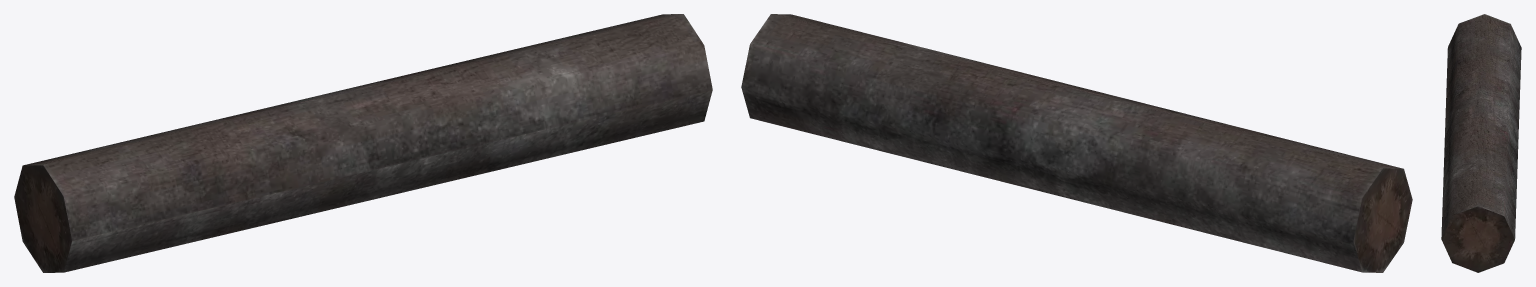
The picture shows the model from 3 angles, left to right: view 1: azimuth 30°, elevation 25°; view 2: azimuth 150°, elevation 25°; view 3: azimuth 270°, elevation 25°; orthographic projection. The views are drawn at different scales.
Visible parts, largest first — view 1: SW_B_lo; view 2: SW_B_lo; view 3: SW_B_lo.
Boxes of the visible parts, x1,y1,x2,y2 form: SW_B_lo: [14, 14, 712, 272]; SW_B_lo: [741, 14, 1412, 272]; SW_B_lo: [1441, 14, 1521, 272].
Bounding box in the file's own units: 1.3 × 0.21 × 0.2284.
1 material, 1 textured.
